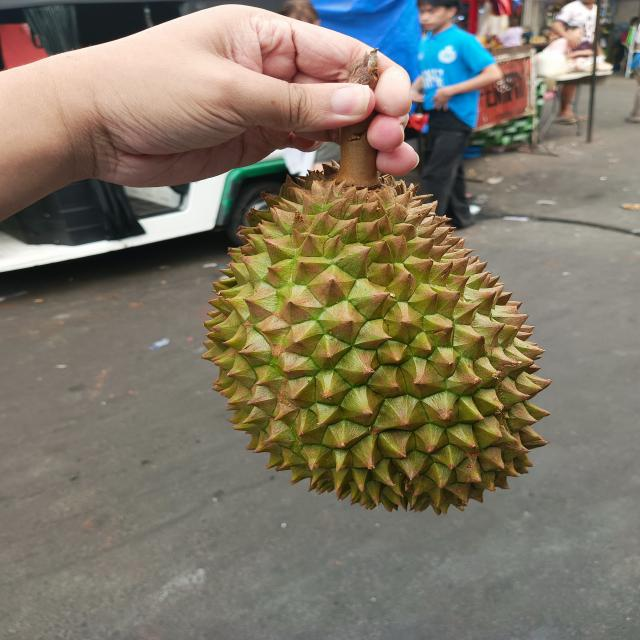mature: (204, 210, 540, 506)
